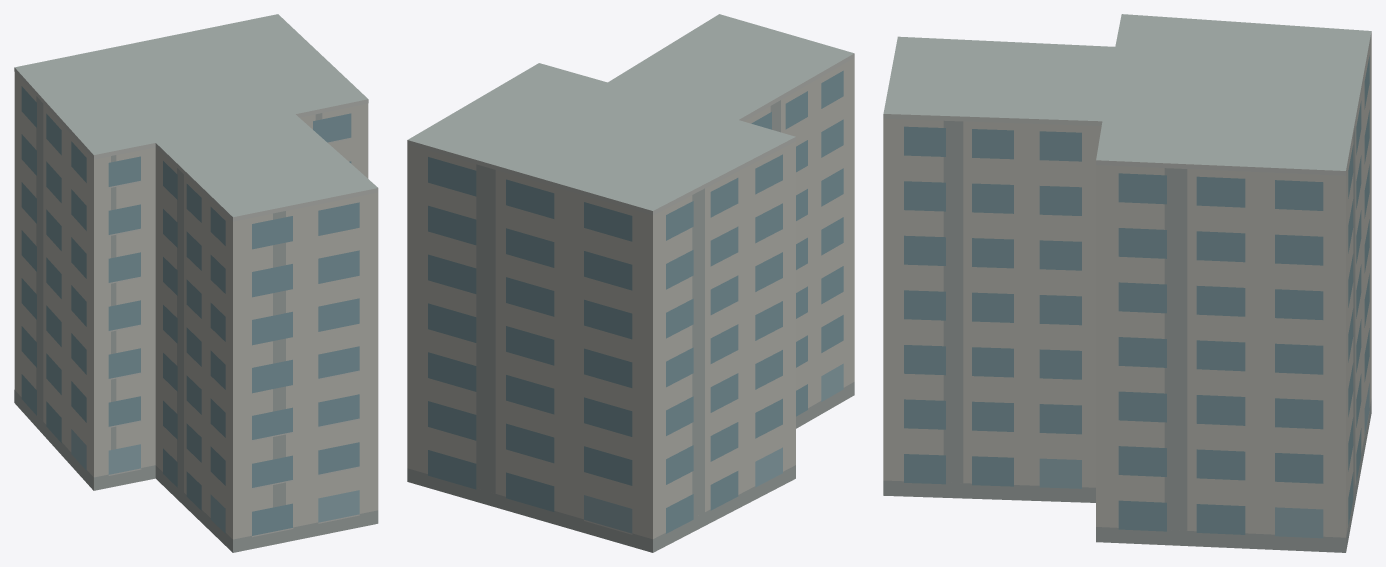
The model's file is survey-upis-32905808.glb.
The picture shows the model from 3 angles, left to right: view 1: azimuth 30°, elevation 25°; view 2: azimuth 150°, elevation 25°; view 3: azimuth 270°, elevation 25°; orthographic projection. The views are drawn at different scales.
Visible parts, largest first — view 1: survey-upis-32905808.tmp; view 2: survey-upis-32905808.tmp; view 3: survey-upis-32905808.tmp.
Boxes of the visible parts, x1,y1,x2,y2 form: survey-upis-32905808.tmp: (14, 14, 378, 552); survey-upis-32905808.tmp: (407, 14, 854, 552); survey-upis-32905808.tmp: (883, 14, 1371, 552).
Size of the model in its own units: 16.86 by 19.1 by 22.14.
